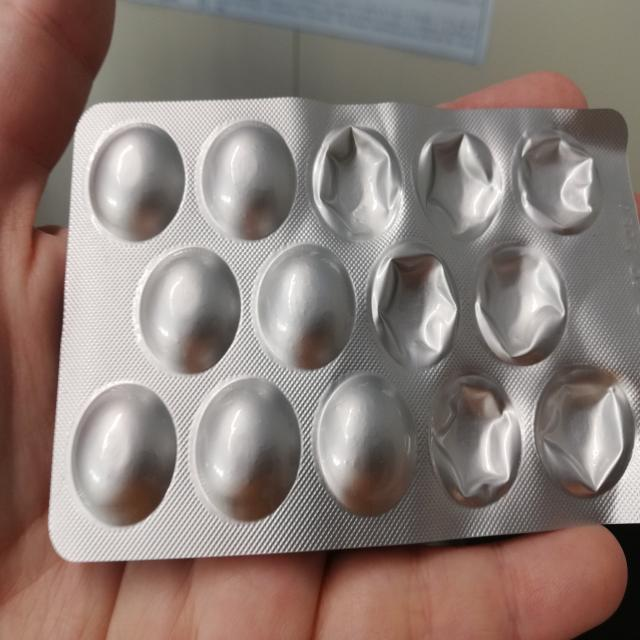Empty: (530, 370, 638, 504), (426, 375, 523, 512), (470, 244, 570, 370), (367, 245, 461, 374), (310, 119, 406, 244), (412, 120, 506, 244), (511, 116, 606, 238)
Pill: (190, 378, 302, 524), (68, 380, 178, 528), (314, 374, 422, 520), (132, 244, 244, 378), (248, 245, 358, 373), (194, 114, 298, 244), (84, 118, 186, 244)
